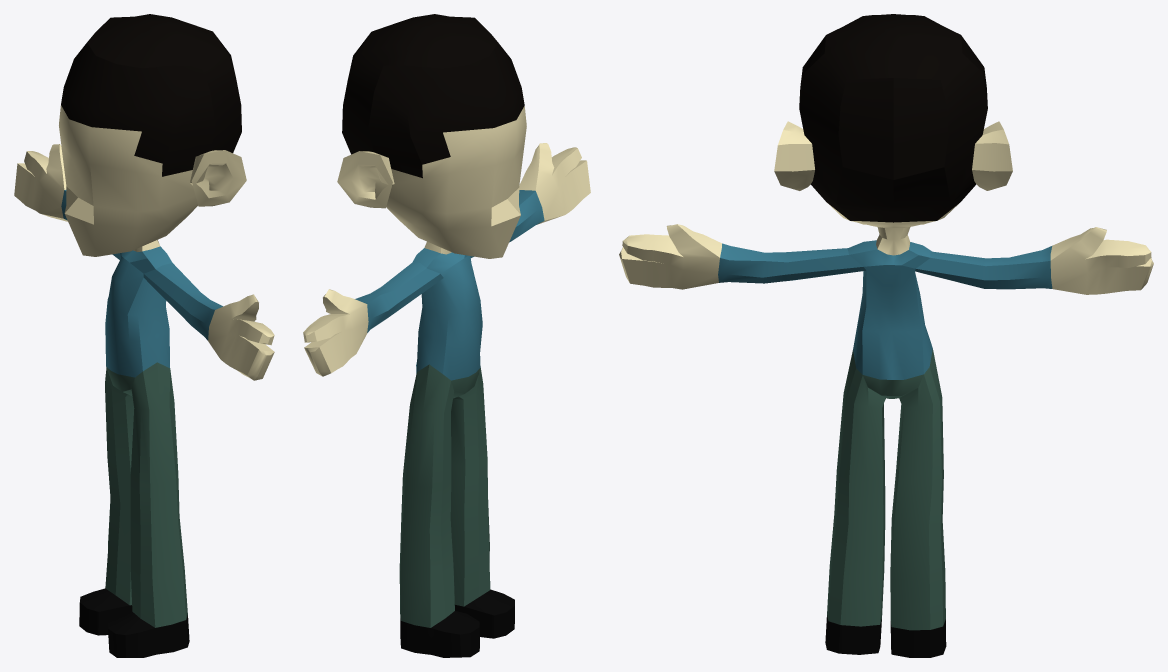
The model's file is Men2.fbx.
3 renders of one model, left to right at view 1: azimuth 30°, elevation 25°; view 2: azimuth 150°, elevation 25°; view 3: azimuth 270°, elevation 25°, orthographic. The views are drawn at different scales.
Visible parts, largest first — view 1: Body; view 2: Body; view 3: Body.
Boxes of the visible parts, x1,y1,x2,y2 form: Body: [14, 14, 274, 657]; Body: [303, 14, 590, 657]; Body: [619, 14, 1153, 657].
Bounding box in the file's own units: 391 × 147 × 505.
